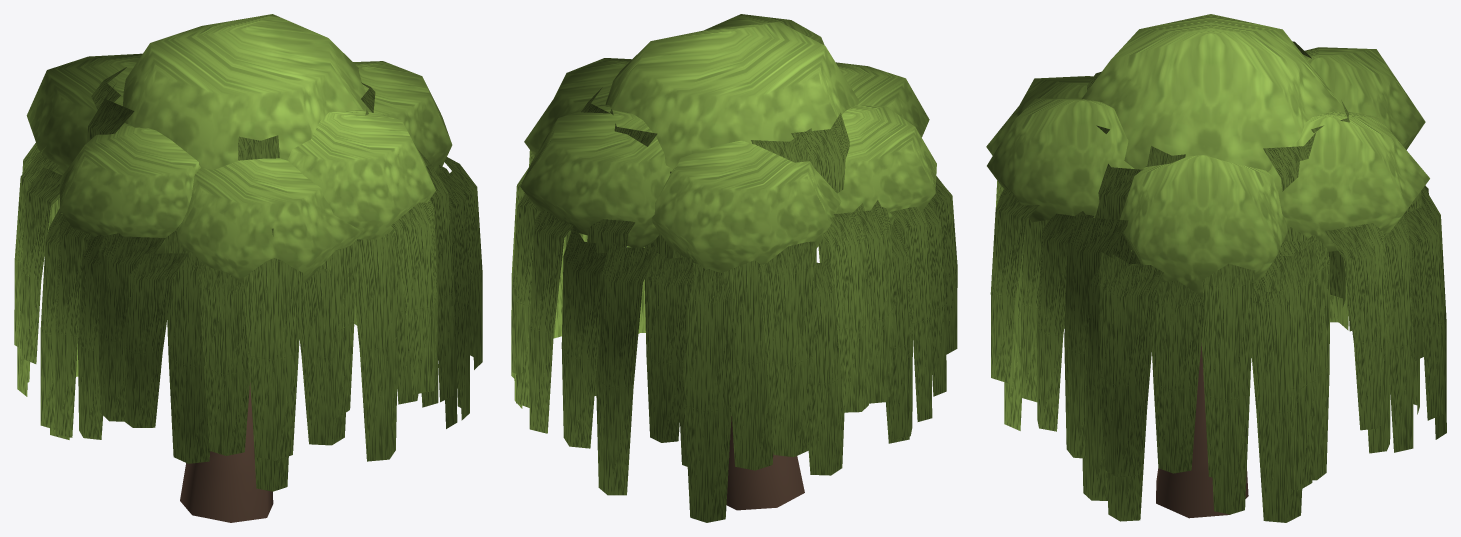
Rendered from river-tree-willow.glb.
3 views of the same model, side by side, from view 1: azimuth 30°, elevation 25°; view 2: azimuth 150°, elevation 25°; view 3: azimuth 270°, elevation 25° (orthographic). The views are drawn at different scales.
Visible parts, largest first — view 1: Crown, Trunk; view 2: Crown, Trunk; view 3: Crown, Trunk.
Part boxes in pixels (x1,y1,x2,y2): Crown: (14, 14, 482, 491); Trunk: (180, 383, 273, 522); Crown: (511, 14, 957, 522); Trunk: (726, 416, 804, 510); Crown: (986, 14, 1446, 522); Trunk: (1156, 343, 1248, 518).
Bounding box in the file's own units: 7.65 × 8.63 × 7.55.
Materials: 2 (1 with a texture image).
